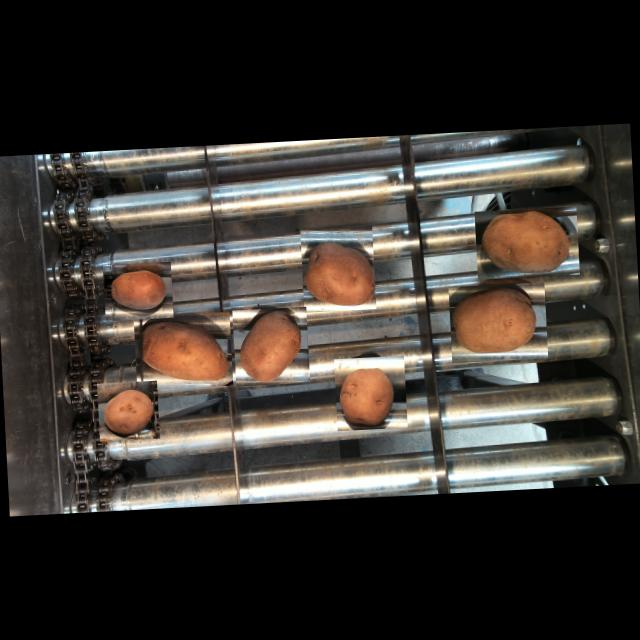Diseased-fungal potato: (448, 282, 548, 363), (134, 312, 234, 391), (475, 207, 580, 280), (300, 225, 376, 313), (232, 306, 310, 386), (334, 356, 408, 432), (103, 262, 174, 321), (97, 381, 160, 442)
